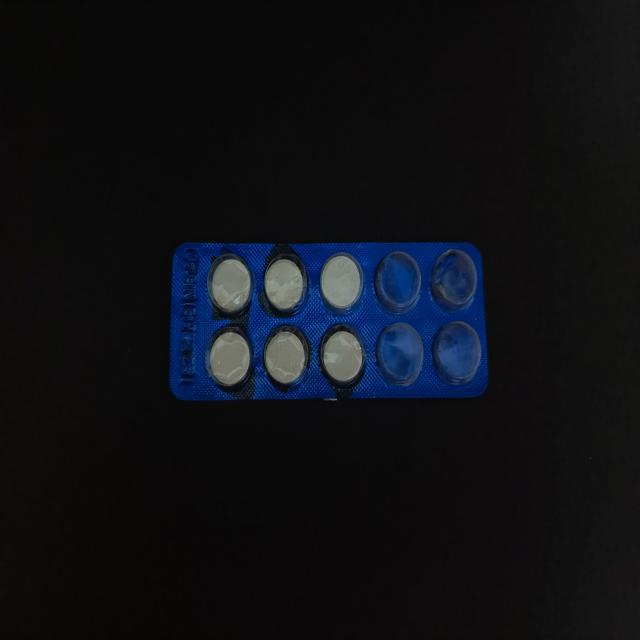defect: (372, 320, 427, 388), (431, 318, 484, 387), (427, 246, 480, 314), (372, 249, 423, 316)
